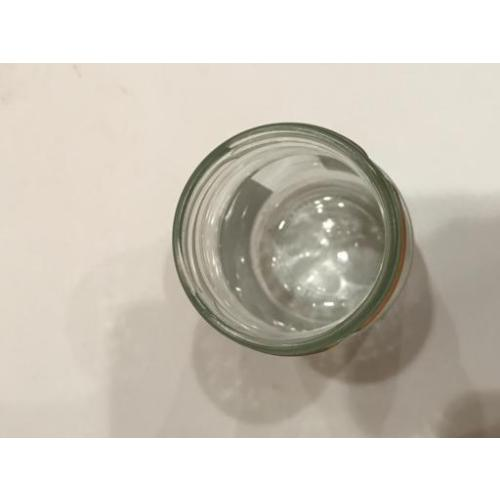glass: (171, 121, 403, 358)
